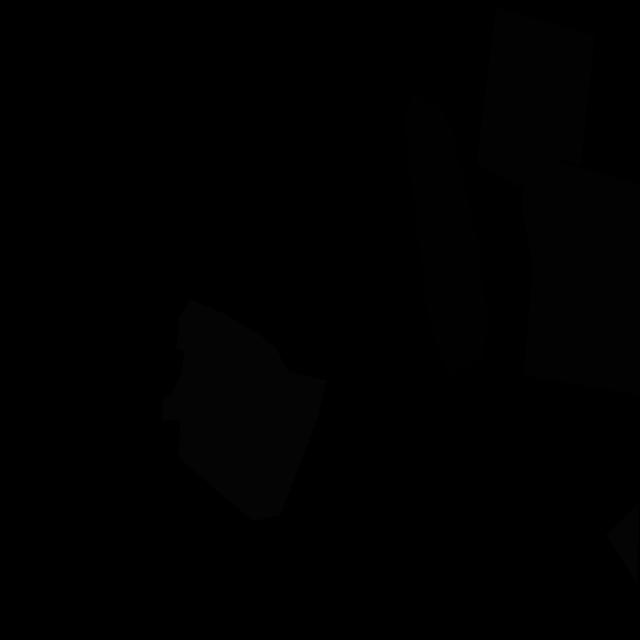cardboard: (522, 151, 640, 395), (476, 7, 595, 189)
rigid_plastic: (403, 93, 488, 376)
soft_plastic: (162, 300, 327, 521), (606, 503, 639, 585)
